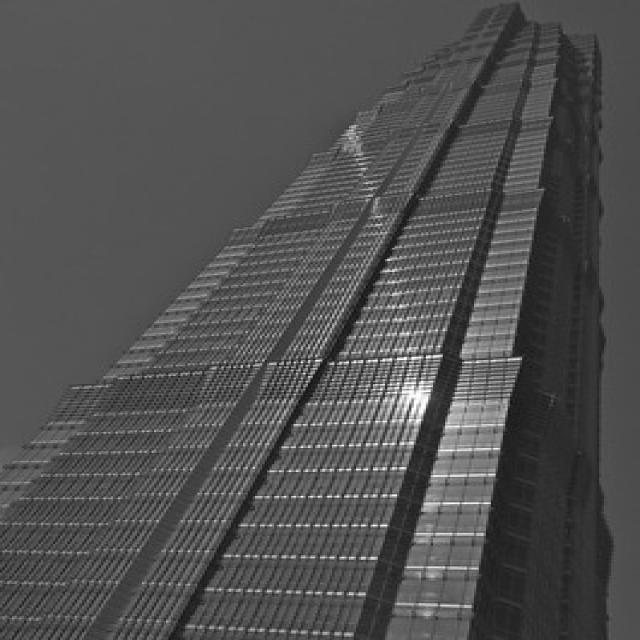building: (8, 8, 630, 640)
